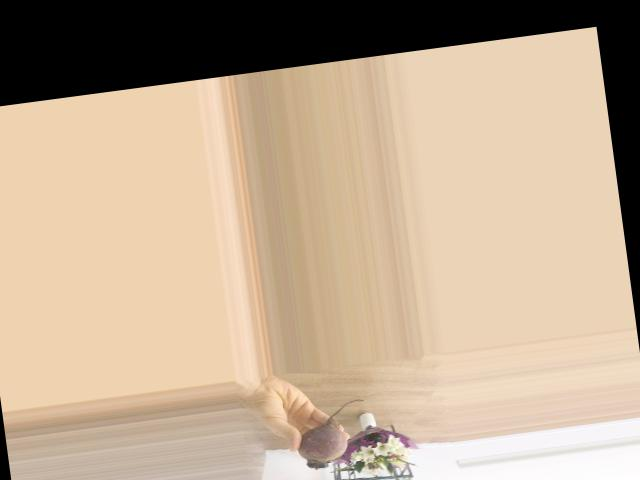beet: (293, 398, 373, 471)
